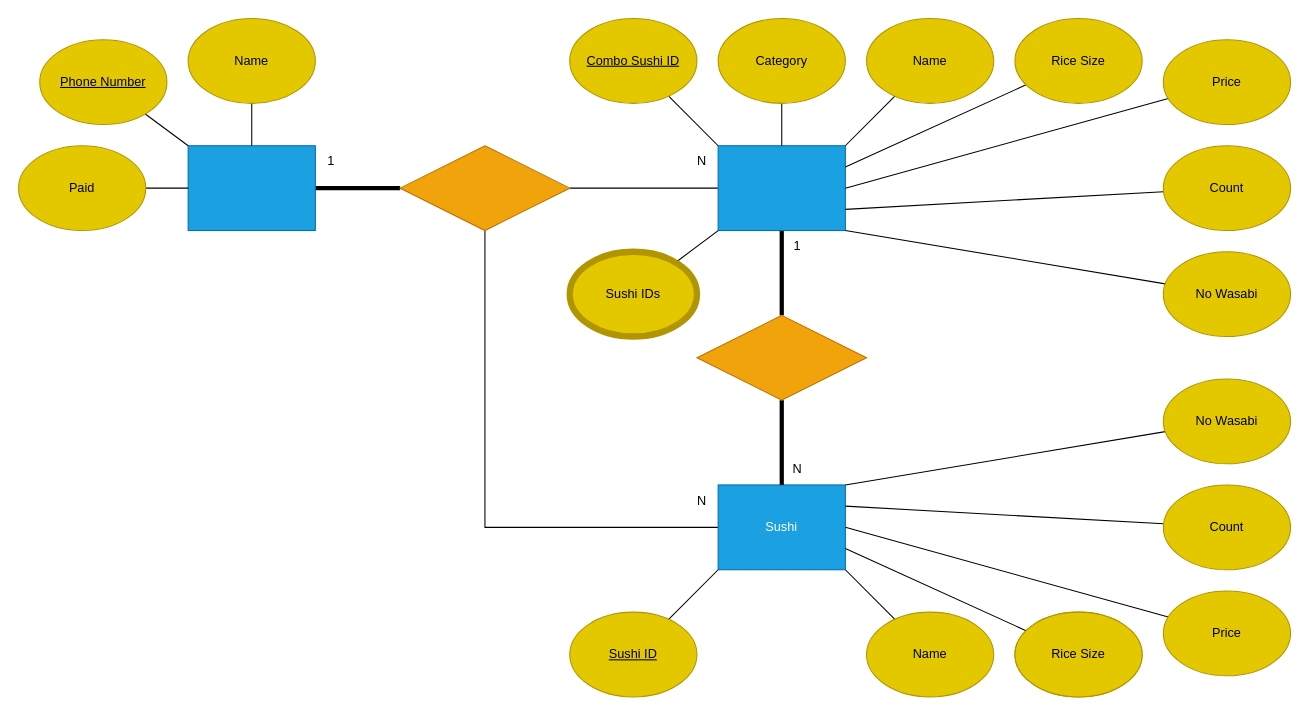
The diagram is 1309 pixels wide and 715 high, and some of its shapes have lost their labels. The shapes that lost their labels are listed below. From the top down, each one's centre as x and y in pixels, then its label:
the point at 251,188: Orderer
the point at 484,188: Orders
the point at 781,188: Combo Sushi
the point at 781,357: Contains
